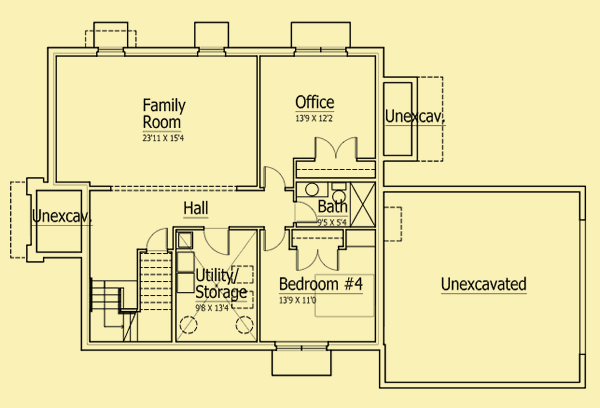door: (312, 134, 359, 163), (292, 248, 343, 273), (200, 227, 232, 256), (260, 164, 288, 189), (143, 226, 170, 251), (294, 199, 319, 224), (262, 227, 285, 253)
large_sink: (327, 180, 347, 205)
small_sink: (297, 182, 329, 199)
stairs: (91, 250, 174, 345)
window: (285, 43, 349, 60), (271, 339, 333, 351), (95, 44, 126, 59), (197, 46, 231, 57)
